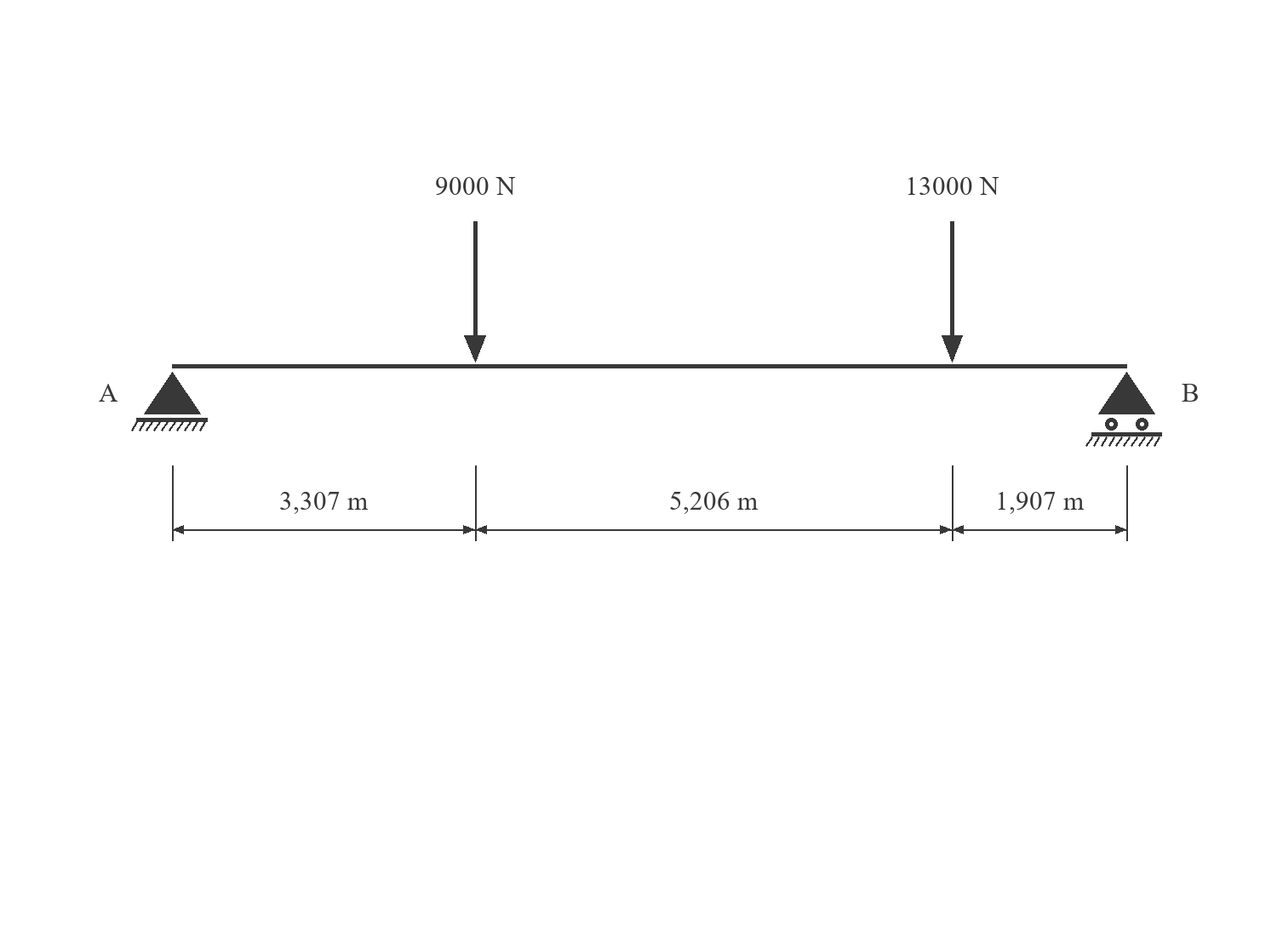pin_support: (131, 372, 208, 431)
point_load: (464, 221, 486, 362), (942, 221, 963, 362)
roller_support: (1085, 372, 1162, 447)
